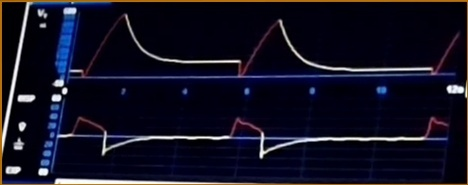Flow: (64, 107, 448, 171)
Leakage Volume: (73, 13, 460, 83)
